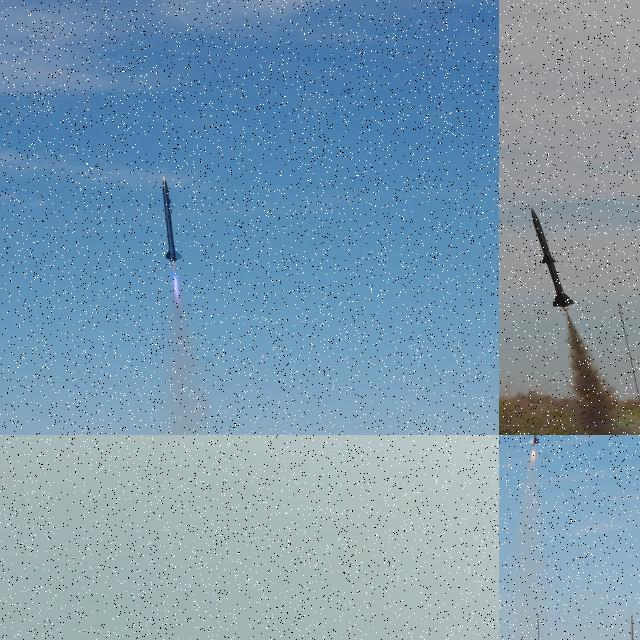Rocket: (531, 207, 576, 309), (161, 175, 183, 263), (527, 435, 540, 444)
